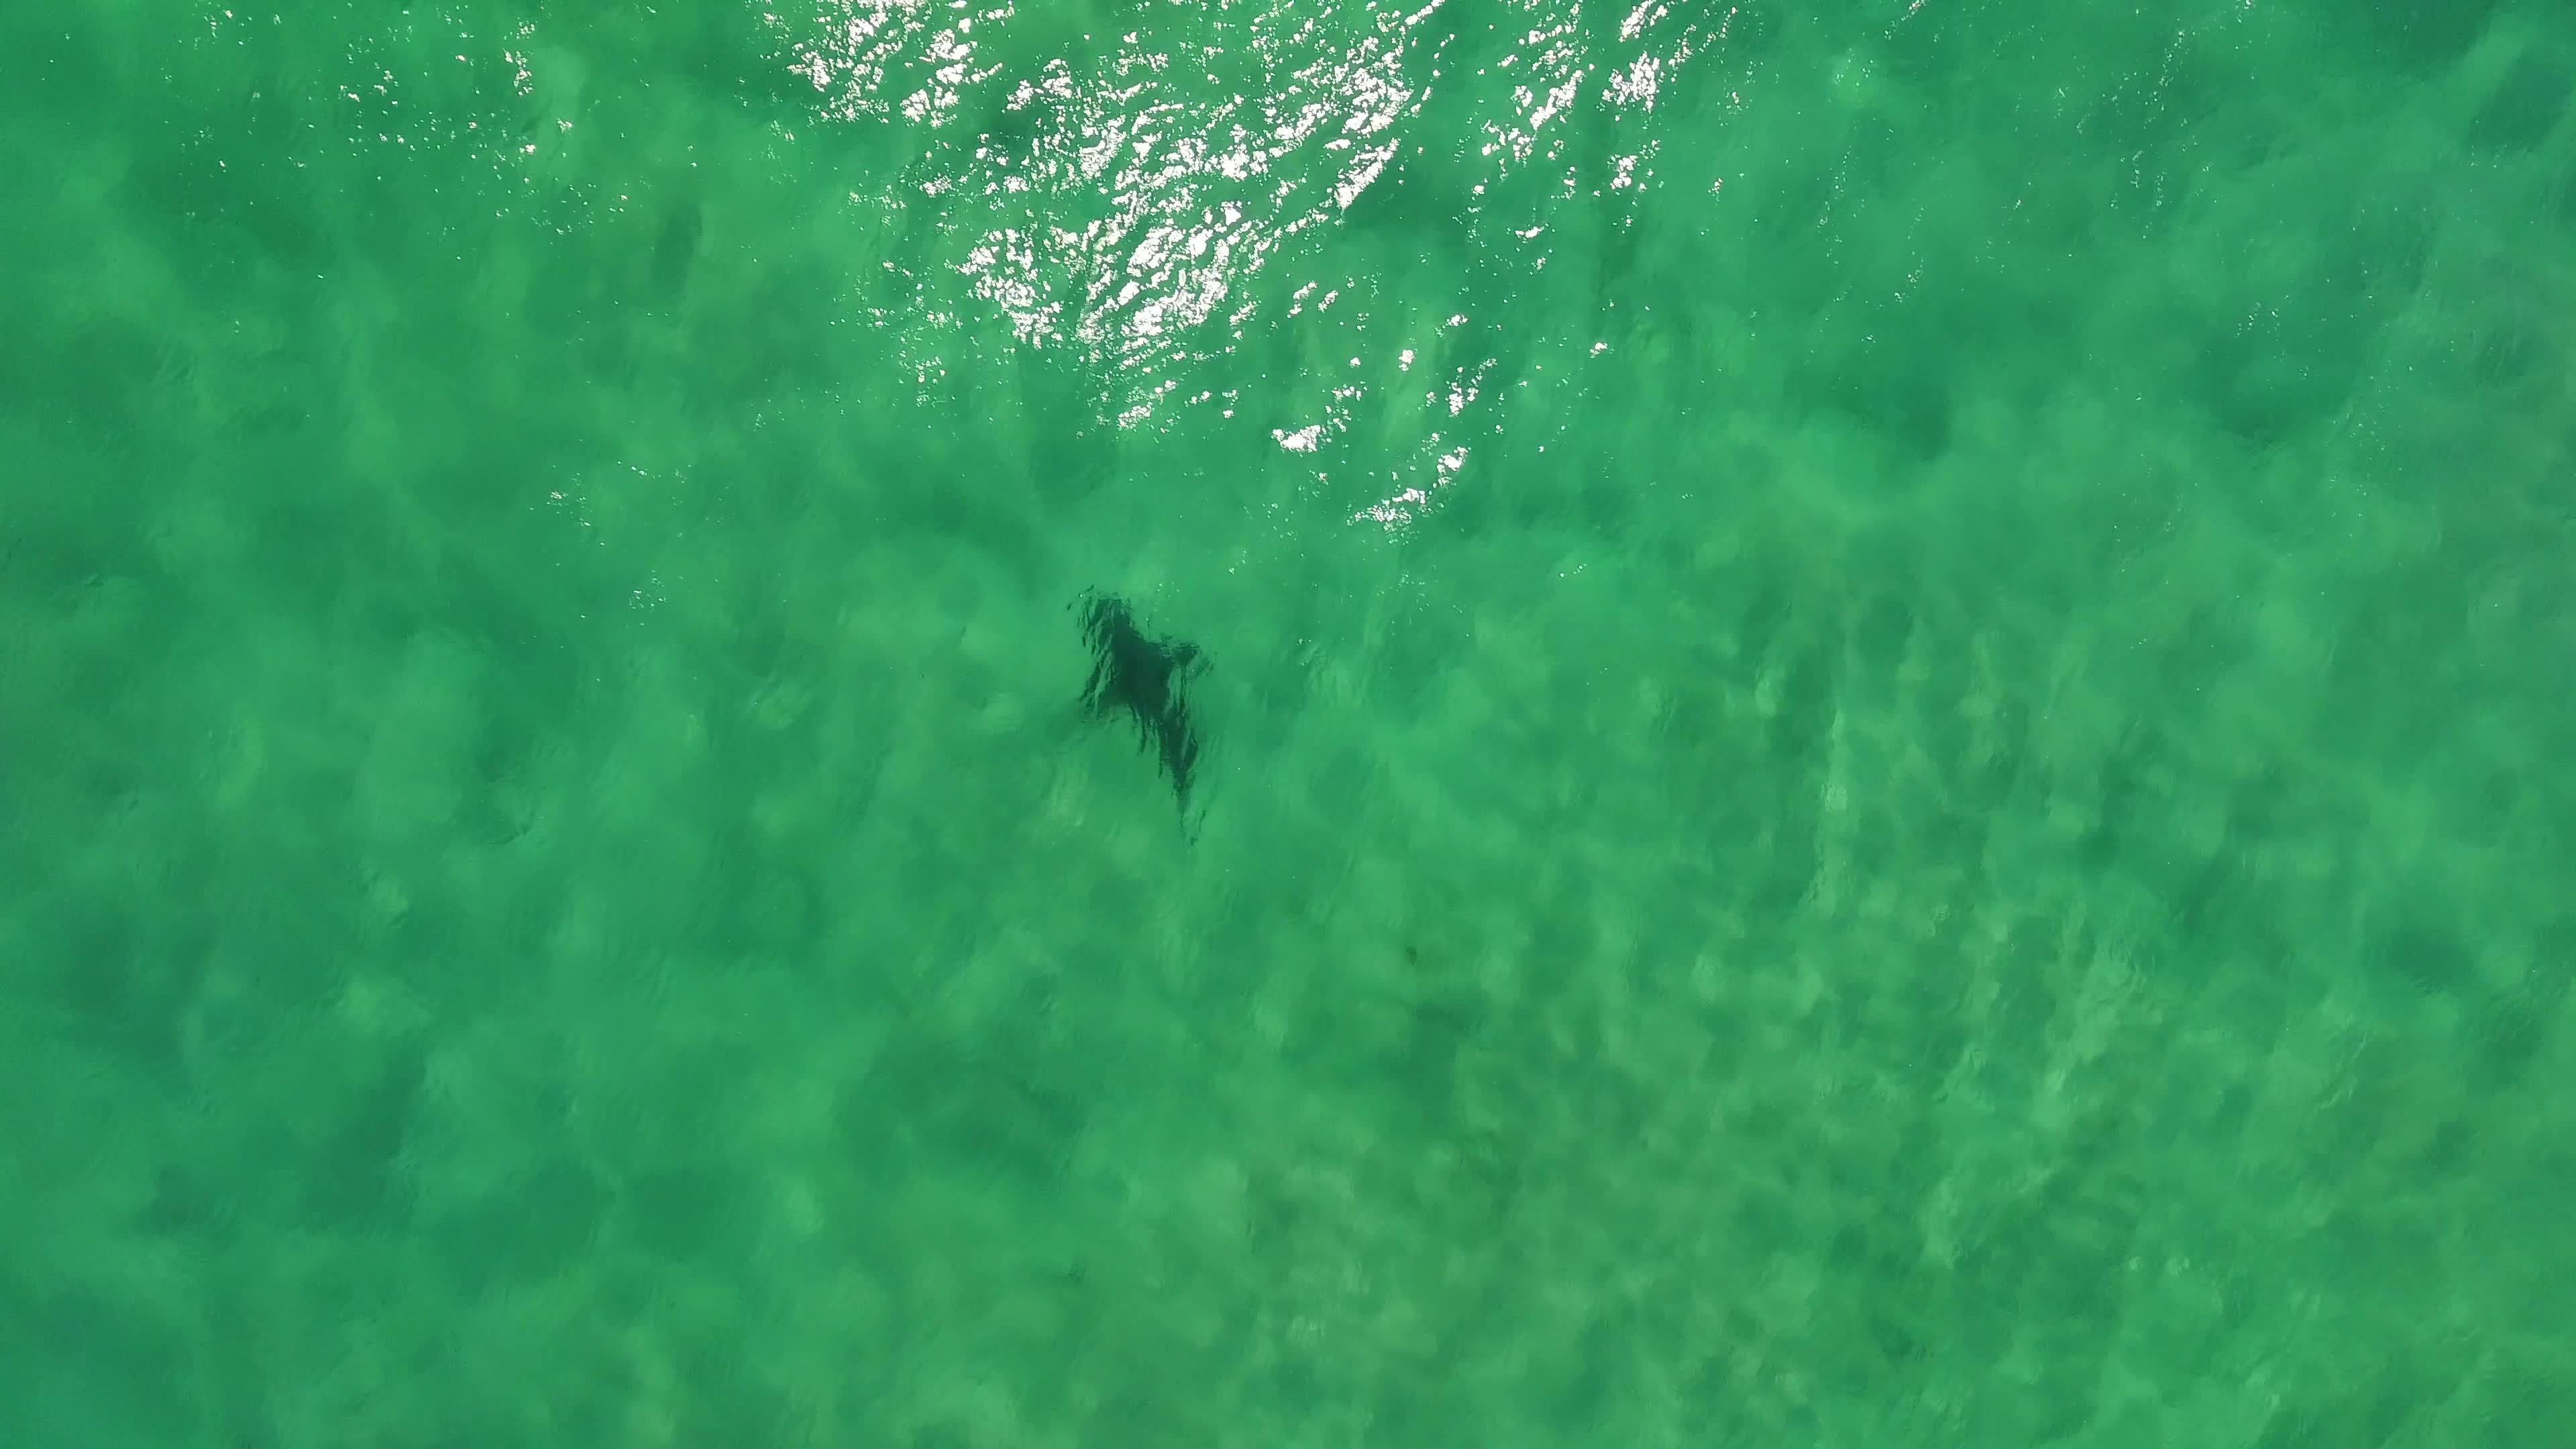shark: (1070, 591, 1224, 837)
